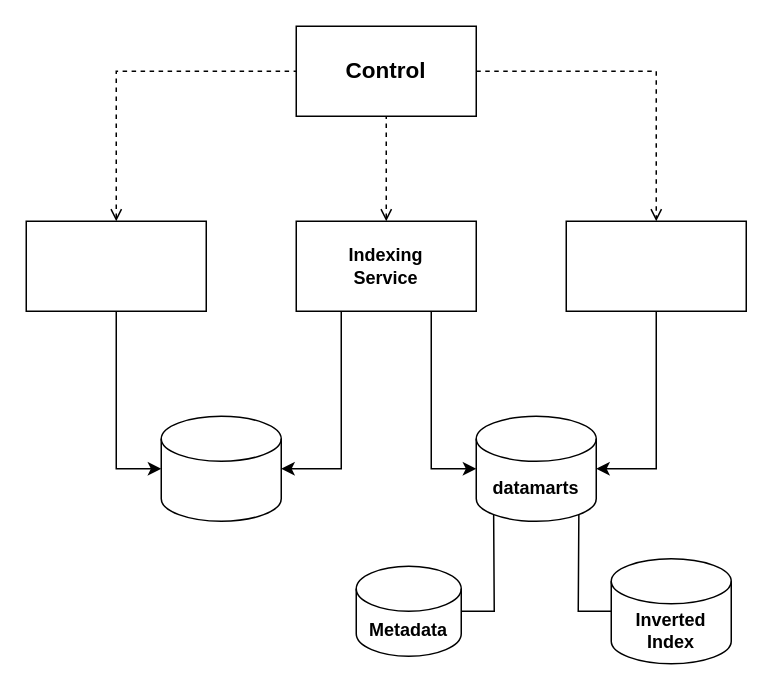
This 773x690 diagram has some shape labels left out. The box of each missing label's shape, as (x1, y1, x2, y2) in pixels:
datalake: (160, 415, 281, 521)
Ingestion Service: (25, 220, 206, 311)
Search Service: (565, 220, 746, 311)
